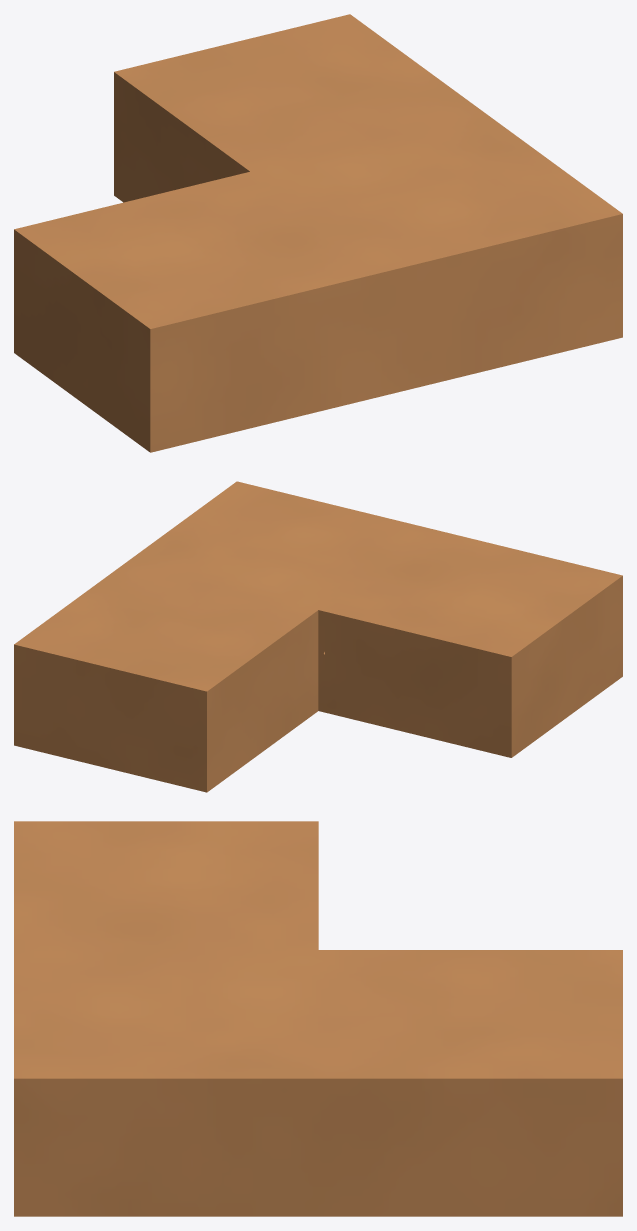
3 renders of one model, top to bottom at view 1: azimuth 30°, elevation 25°; view 2: azimuth 150°, elevation 25°; view 3: azimuth 270°, elevation 25°, orthographic. The views are drawn at different scales.
Visible parts, largest first — view 1: ss15-sandstone-coping-turn; view 2: ss15-sandstone-coping-turn; view 3: ss15-sandstone-coping-turn.
Part boxes in pixels (<box>): ss15-sandstone-coping-turn: <box>14,14,622,452</box>; ss15-sandstone-coping-turn: <box>14,481,622,792</box>; ss15-sandstone-coping-turn: <box>14,821,622,1216</box>.
Size of the model in its own units: 100 by 25 by 100.
